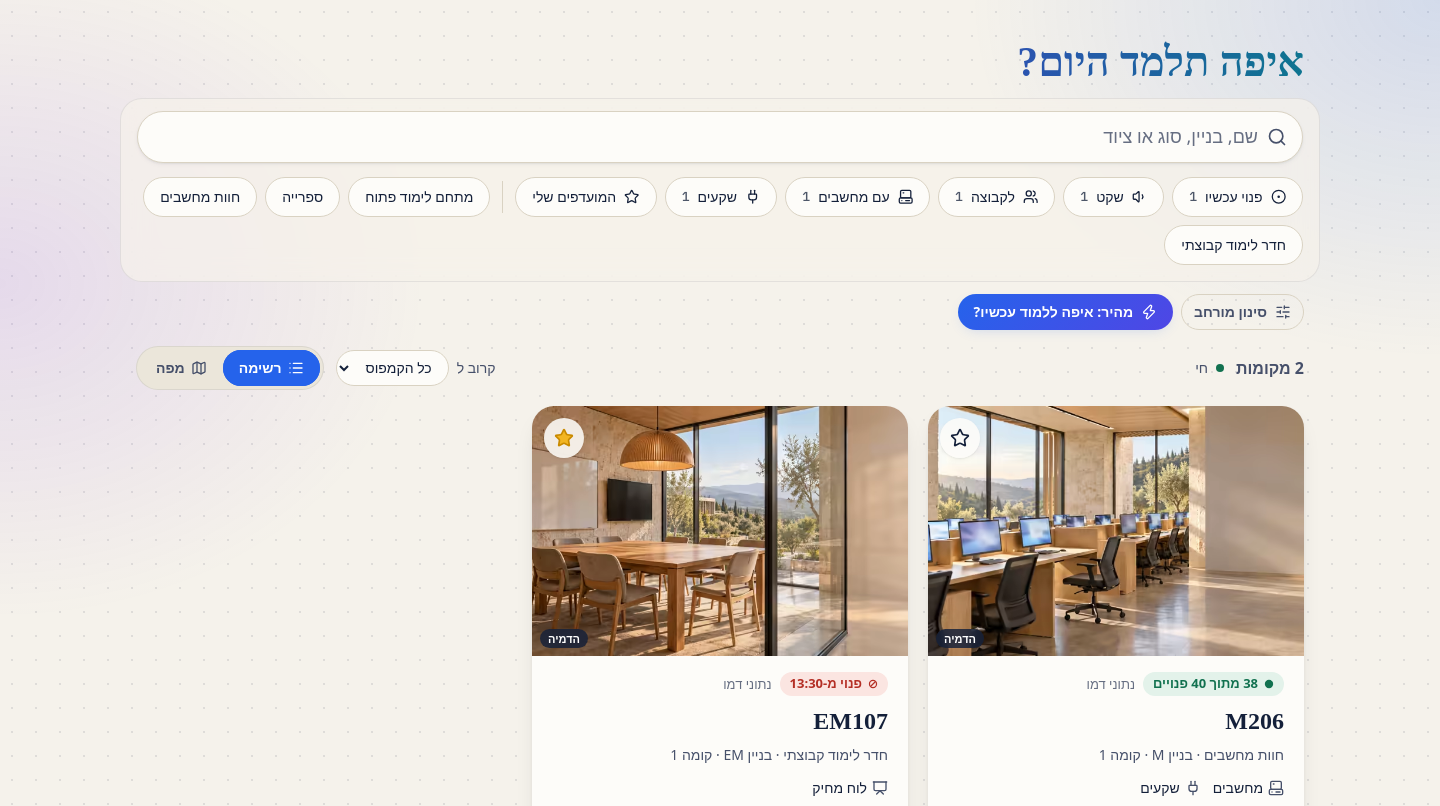
Test: Finder › un-starring the last favourite turns "my favourites" off, not into an empty list
The image size is (1440, 806).
Step 1. Click the button "המועדפים שלי" → (586,197), box [515,177,657,217]
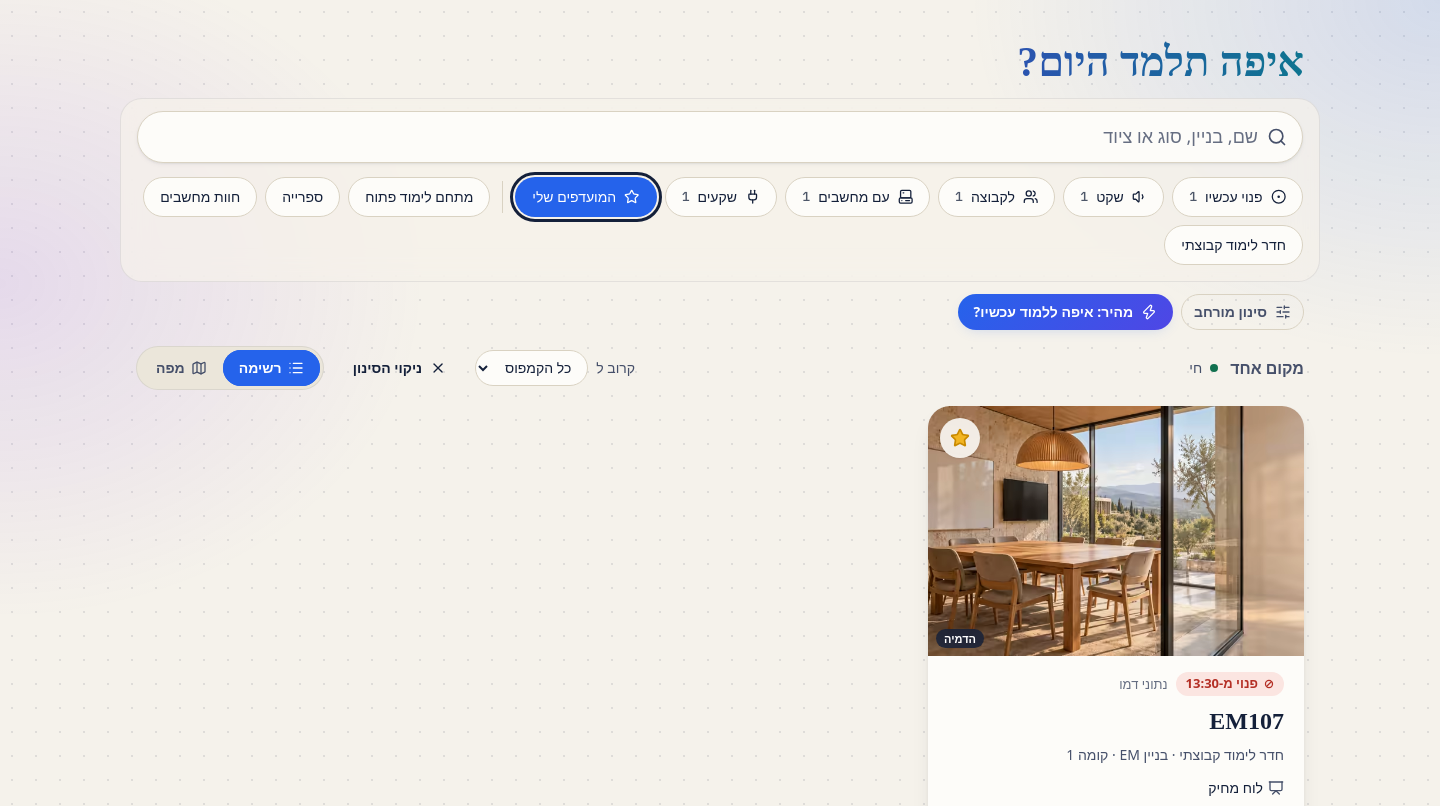
Step 2. Click the button named "מועדף: EM107" → (960,438), box [940,418,980,458]
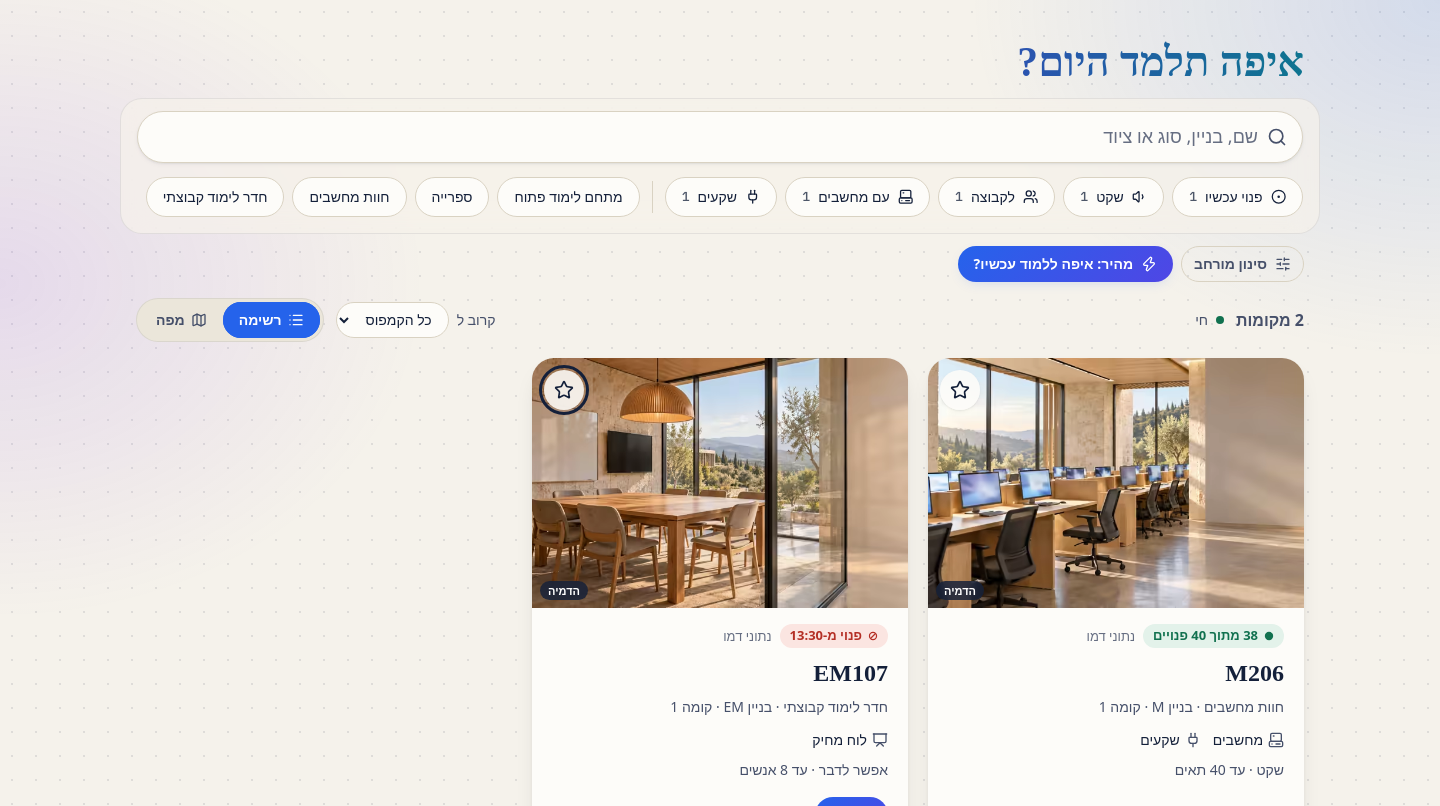
Expected: the button "המועדפים שלי" is gone
